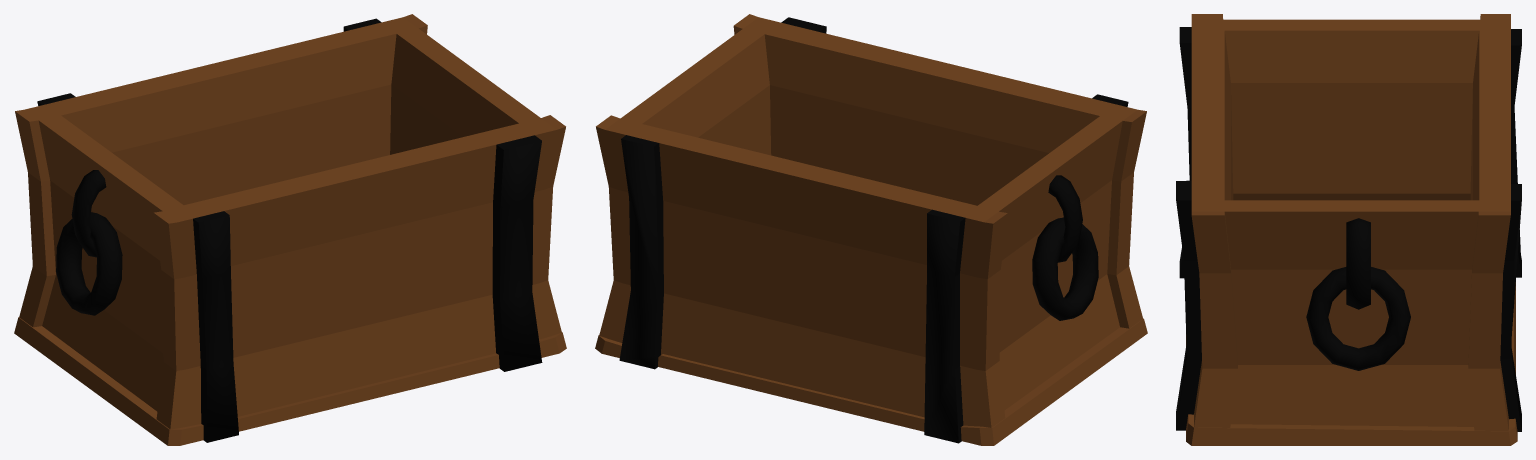
File: Chest-01.glb
3 renders of one model, left to right at view 1: azimuth 30°, elevation 25°; view 2: azimuth 150°, elevation 25°; view 3: azimuth 270°, elevation 25°, orthographic. The views are drawn at different scales.
Visible parts, largest first — view 1: Chest-01; view 2: Chest-01; view 3: Chest-01.
Part boxes in pixels (left/top/right/bottom): Chest-01: left=14, top=14, right=566, bottom=445; Chest-01: left=595, top=14, right=1147, bottom=445; Chest-01: left=1176, top=14, right=1521, bottom=445.
Bounding box in the file's own units: 1.24 × 0.6131 × 0.8299.
